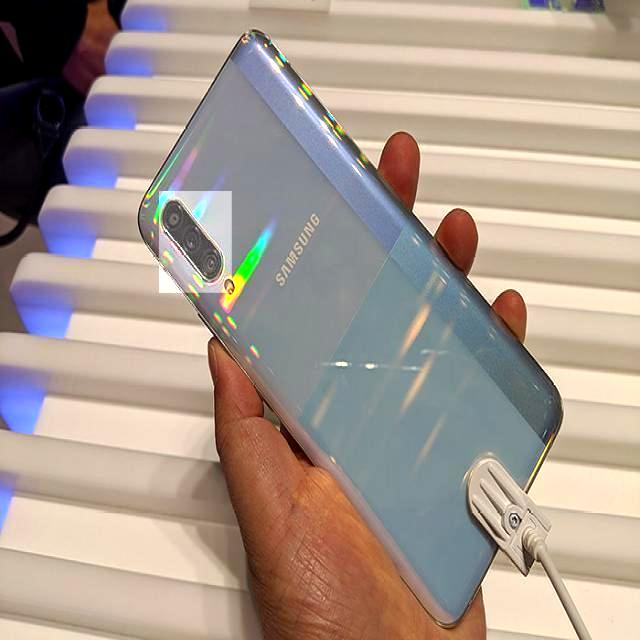lens_back: (198, 249, 222, 279), (162, 202, 184, 232), (181, 226, 202, 255)
phone: (136, 26, 566, 633)
